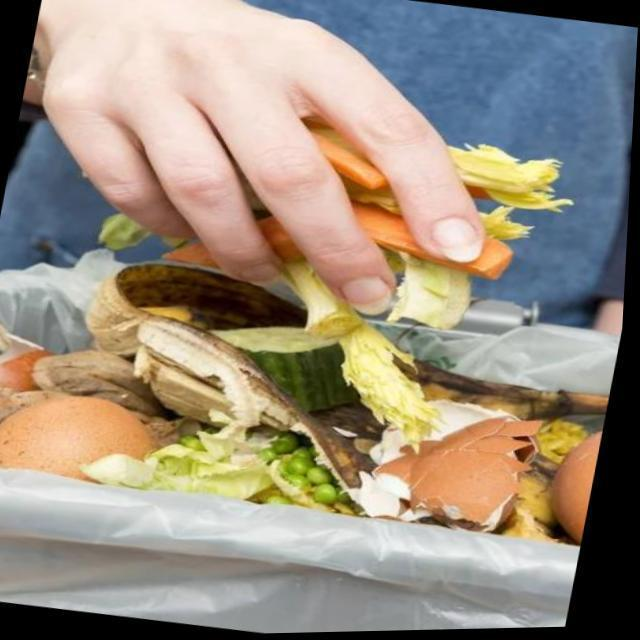Garbage: (0, 275, 621, 550)
